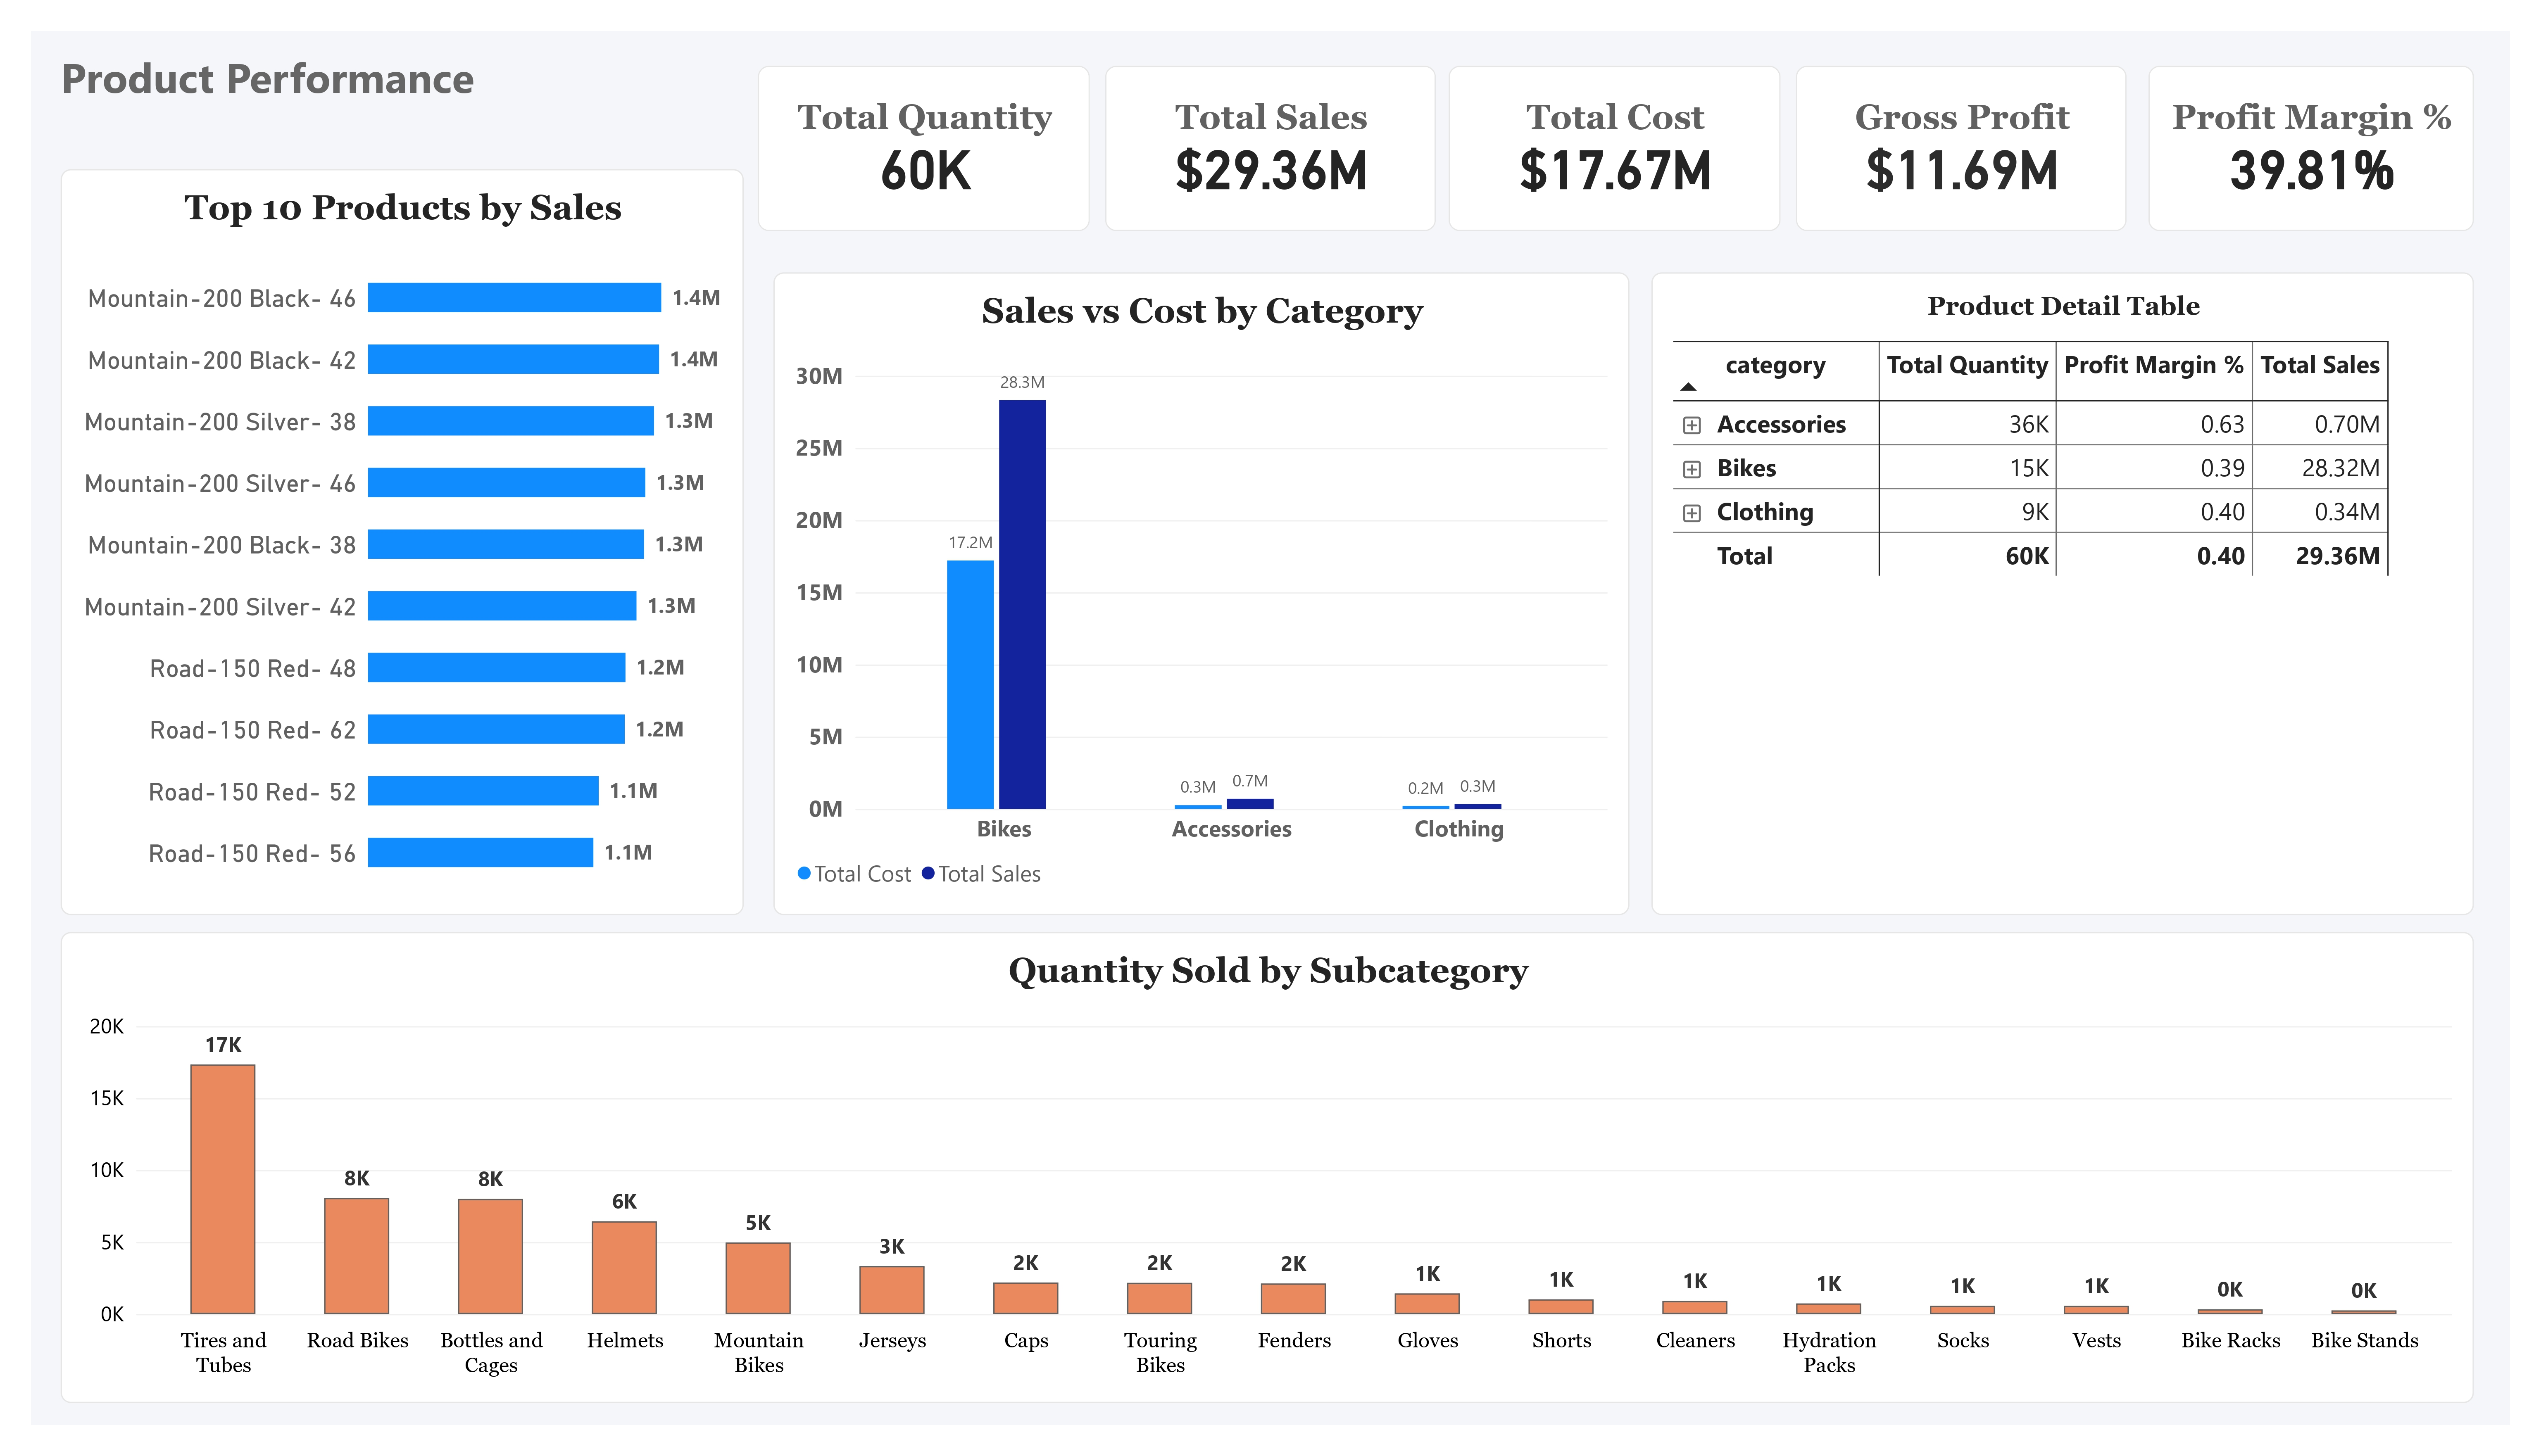

What the dashboard file says about the page in this screenshot:
{"tool":"powerbi","page":{"name":"Product Performance","canvas":[1920,1080],"ordinal":1},"visuals":[{"type":"cardVisual","fields":{"Data":["_Measures.Total Quantity"]},"box":[563.3,26.7,256.7,128.3],"z":0},{"type":"cardVisual","fields":{"Data":["_Measures.Gross Profit"]},"box":[1366.7,26.7,256.7,128.3],"z":1000},{"type":"cardVisual","fields":{"Data":["_Measures.Total Cost"]},"box":[1098.3,26.7,256.7,128.3],"z":2000},{"type":"cardVisual","fields":{"Data":["_Measures.Profit Margin %"]},"box":[1640,26.7,251.7,128.3],"z":3000},{"type":"clusteredColumnChart","title":"Quantity Sold by Subcategory","fields":{"Category":["dim_products.subcategory"],"Y":["_Measures.Total Quantity"]},"box":[23.3,698.3,1868.3,365],"z":4000},{"type":"barChart","title":"Top 10 Products by Sales","fields":{"Category":["dim_products.product_name"],"Y":["_Measures.Total Sales"]},"box":[23.3,106.7,528.3,578.3],"z":5000},{"type":"textbox","box":[23.3,13.1,404.1,59.8],"z":6000},{"type":"cardVisual","fields":{"Data":["_Measures.Total Sales"]},"box":[831.7,26.7,256.7,128.3],"z":7000},{"type":"clusteredColumnChart","title":"Sales vs Cost by Category","fields":{"Category":["dim_products.category"],"Y":["_Measures.Total Cost","_Measures.Total Sales"]},"box":[575,186.7,663.3,498.3],"z":8000},{"type":"pivotTable","title":"Product Detail Table","fields":{"Rows":["dim_products.category","dim_products.subcategory"],"Values":["_Measures.Total Quantity","_Measures.Profit Margin %","_Measures.Total Sales"]},"box":[1255,186.7,636.7,498.3],"z":9000}]}

Visuals, with their boxes on the page's 1920x1080 design canvas (x1, y1, x2, y2). These are canvas units, not pixel positions in the 2541x1456 screenshot, which may show the page scaled, cropped or inside an application window:
cardVisual - _Measures.Total Quantity: <bbox>563, 27, 820, 155</bbox>
cardVisual - _Measures.Gross Profit: <bbox>1367, 27, 1623, 155</bbox>
cardVisual - _Measures.Total Cost: <bbox>1098, 27, 1355, 155</bbox>
cardVisual - _Measures.Profit Margin %: <bbox>1640, 27, 1892, 155</bbox>
"Quantity Sold by Subcategory" clusteredColumnChart: <bbox>23, 698, 1892, 1063</bbox>
"Top 10 Products by Sales" barChart: <bbox>23, 107, 552, 685</bbox>
textbox: <bbox>23, 13, 427, 73</bbox>
cardVisual - _Measures.Total Sales: <bbox>832, 27, 1088, 155</bbox>
"Sales vs Cost by Category" clusteredColumnChart: <bbox>575, 187, 1238, 685</bbox>
"Product Detail Table" pivotTable: <bbox>1255, 187, 1892, 685</bbox>
